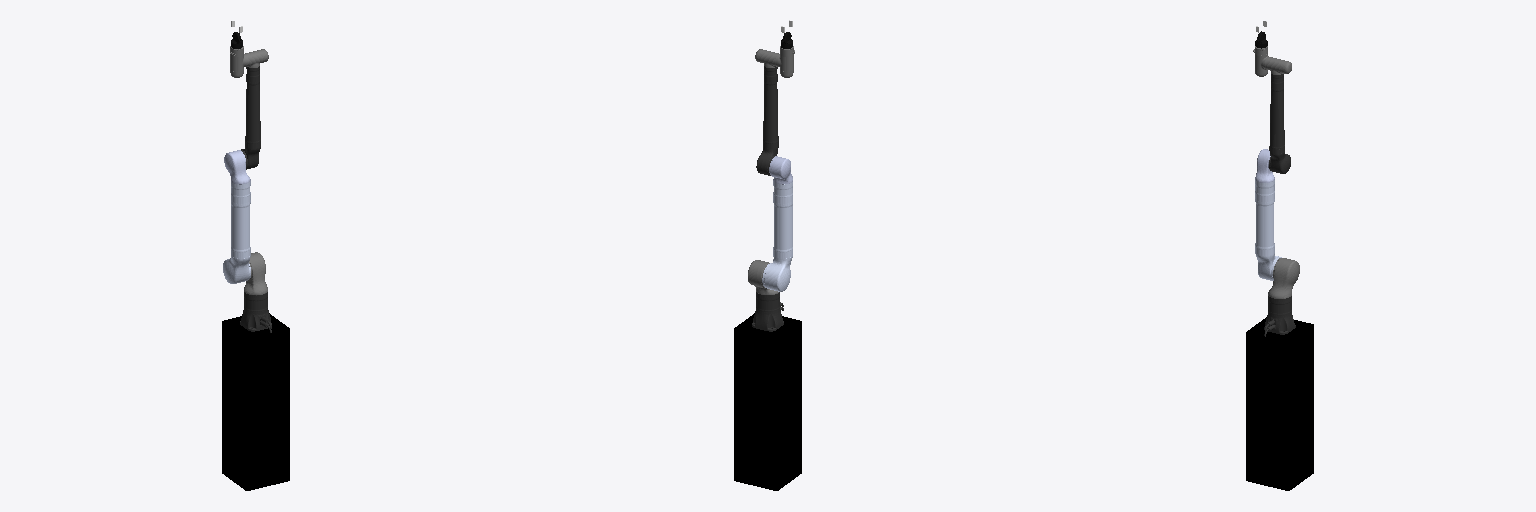
--- What the picture shows (computed from the rendered views, not written in the file) ---
The picture shows the robot from 3 angles, left to right: view 1: azimuth 30°, elevation 25°; view 2: azimuth 150°, elevation 25°; view 3: azimuth 330°, elevation 25°; orthographic projection.
Model kr1410_robot with 23 links and 22 joints (13 revolute, 9 fixed), rooted at world, posed all joints at 0.
Visible links, largest first — view 1: pedestal_link, link_2, link_4, base_link_1, link_1, link_3; view 2: pedestal_link, link_2, link_4, base_link_1, link_3; view 3: pedestal_link, link_2, link_4, base_link_1, link_1.
Boxes of the visible links, <box> form: pedestal_link: <box>222,313,289,490</box>; link_2: <box>223,181,250,283</box>; link_4: <box>241,66,260,169</box>; base_link_1: <box>240,292,271,332</box>; link_1: <box>244,252,267,295</box>; link_3: <box>224,150,250,184</box>; pedestal_link: <box>734,313,801,490</box>; link_2: <box>762,181,792,291</box>; link_4: <box>756,66,778,175</box>; base_link_1: <box>752,292,783,331</box>; link_3: <box>769,156,792,184</box>; pedestal_link: <box>1246,317,1313,490</box>; link_2: <box>1255,180,1281,280</box>; link_4: <box>1269,74,1290,173</box>; base_link_1: <box>1264,296,1295,336</box>; link_1: <box>1268,258,1299,298</box>.
Size in the robot's own frame: 0.3297 by 0.3349 by 3.01 metres.
9 mesh visuals loaded from 13 distinct referenced files (9 Collada DAE); not drawn: 8 (reference not matched to a file when rendering).

robot.urdf — kr1410_robot:
<?xml version="1.0" ?>
<!-- =================================================================================== -->
<!-- |    This document was autogenerated by xacro from kr1410_gripper.xacro           | -->
<!-- |    EDITING THIS FILE BY HAND IS NOT RECOMMENDED                                 | -->
<!-- =================================================================================== -->
<robot name="kr1410_robot">
  <!-- Author: Shivam -->
  <link name="base_link_1">
    <inertial>
      <origin rpy="0 0 0" xyz="-7.4738E-07 -0.0025261 0.10578"/>
      <mass value="4.1962"/>
      <inertia ixx="0.0097664" ixy="-2.7713E-06" ixz="-6.4429E-08" iyy="0.0097383" iyz="2.8724E-06" izz="0.01208"/>
    </inertial>
    <visual>
      <origin rpy="0 0 0" xyz="0 0 0"/>
      <geometry>
        <mesh filename="package://pkg_kassowa_robot/meshes/visual/base_link_1.dae"/>
      </geometry>
      <material name="">
        <color rgba="0.25098 0.25098 0.25098 1"/>
      </material>
    </visual>
    <collision>
      <origin rpy="0 0 0" xyz="0 0 0"/>
      <geometry>
        <mesh filename="package://pkg_kassowa_robot/meshes/collision/base_link_1.STL"/>
      </geometry>
    </collision>
  </link>
  <link name="link_1">
    <inertial>
      <origin rpy="0 0 0" xyz="0.012459 0.043509 0.10073"/>
      <mass value="3.0192"/>
      <inertia ixx="0.015663" ixy="-0.00040133" ixz="-0.00064388" iyy="0.012554" iyz="-0.0035217" izz="0.0094056"/>
    </inertial>
    <visual>
      <origin rpy="0 0 0" xyz="0 0 0"/>
      <geometry>
        <mesh filename="package://pkg_kassowa_robot/meshes/visual/link_1.dae"/>
      </geometry>
      <material name="">
        <color rgba="0.50196 0.50196 0.50196 1"/>
      </material>
    </visual>
    <collision>
      <origin rpy="0 0 0" xyz="0 0 0"/>
      <geometry>
        <mesh filename="package://pkg_kassowa_robot/meshes/collision/link_1.STL"/>
      </geometry>
    </collision>
  </link>
  <joint name="joint_1" type="revolute">
    <origin rpy="0 0 0" xyz="0 0 0.2272"/>
    <parent link="base_link_1"/>
    <child link="link_1"/>
    <axis xyz="0 0 1"/>
    <limit effort="150.0" lower="-3.1416" upper="3.1416" velocity="3.927"/>
    <dynamics damping="0" friction="0"/>
  </joint>
  <link name="link_2">
    <inertial>
      <origin rpy="0 0 0" xyz="-0.044962 -0.2486 0.062961"/>
      <mass value="8.0381"/>
      <inertia ixx="0.045397" ixy="-0.0027682" ixz="9.7935E-05" iyy="0.016757" iyz="0.00018387" izz="0.048264"/>
    </inertial>
    <visual>
      <origin rpy="0 0 0" xyz="0 0 0"/>
      <geometry>
        <mesh filename="package://pkg_kassowa_robot/meshes/visual/link_2.dae"/>
      </geometry>
      <material name="">
        <color rgba="0.86667 0.90588 1 1"/>
      </material>
    </visual>
    <collision>
      <origin rpy="0 0 0" xyz="0 0 0"/>
      <geometry>
        <mesh filename="package://pkg_kassowa_robot/meshes/collision/link_2.STL"/>
      </geometry>
    </collision>
  </link>
  <joint name="joint_2" type="revolute">
    <origin rpy="-1.5708 0 1.5708" xyz="-0.0405 0.062 0.13"/>
    <parent link="link_1"/>
    <child link="link_2"/>
    <axis xyz="0 0 -1"/>
    <limit effort="150.0" lower="-1.2217" upper="3.1416" velocity="3.927"/>
    <dynamics damping="0" friction="0"/>
  </joint>
  <link name="link_3">
    <inertial>
      <origin rpy="0 0 0" xyz="-0.010057 0.034551 0.080854"/>
      <mass value="1.5966"/>
      <inertia ixx="0.0054385" ixy="0.00013345" ixz="0.00023101" iyy="0.0043549" iyz="-0.0012411" izz="0.0032789"/>
    </inertial>
    <visual>
      <origin rpy="0 0 0" xyz="0 0 0"/>
      <geometry>
        <mesh filename="package://pkg_kassowa_robot/meshes/visual/link_3.dae"/>
      </geometry>
      <material name="">
        <color rgba="0.79216 0.81961 0.93333 1"/>
      </material>
    </visual>
    <collision>
      <origin rpy="0 0 0" xyz="0 0 0"/>
      <geometry>
        <mesh filename="package://pkg_kassowa_robot/meshes/collision/link_3.STL"/>
      </geometry>
    </collision>
  </link>
  <joint name="joint_3" type="revolute">
    <origin rpy="1.5708 1.5708 0" xyz="-0.062 -0.6175 0.0647"/>
    <parent link="link_2"/>
    <child link="link_3"/>
    <axis xyz="0 0 1"/>
    <limit effort="150.0" lower="-3.1416" upper="3.1416" velocity="3.927"/>
    <dynamics damping="0" friction="0"/>
  </joint>
  <link name="link_4">
    <inertial>
      <origin rpy="0 0 0" xyz="-0.036947 -0.23777 -0.051725"/>
      <mass value="4.4818"/>
      <inertia ixx="0.036251" ixy="-0.00092868" ixz="-2.0678E-05" iyy="0.0053736" iyz="-4.2282E-05" izz="0.037294"/>
    </inertial>
    <visual>
      <origin rpy="0 0 0" xyz="0 0 0"/>
      <geometry>
        <mesh filename="package://pkg_kassowa_robot/meshes/visual/link_4.dae"/>
      </geometry>
      <material name="">
        <color rgba="0.25098 0.25098 0.25098 1"/>
      </material>
    </visual>
    <collision>
      <origin rpy="0 0 0" xyz="0 0 0"/>
      <geometry>
        <mesh filename="package://pkg_kassowa_robot/meshes/collision/link_4.STL"/>
      </geometry>
    </collision>
  </link>
  <joint name="joint_4" type="revolute">
    <origin rpy="-1.5708 0 1.5708" xyz="0.0325 0.05 0.105"/>
    <parent link="link_3"/>
    <child link="link_4"/>
    <axis xyz="0 0 1"/>
    <limit effort="150.0" lower="-1.2217" upper="3.1416" velocity="3.927"/>
    <dynamics damping="0" friction="0"/>
  </joint>
  <link name="link_5">
    <inertial>
      <origin rpy="0 0 0" xyz="0.015982 4.9455E-08 0.043633"/>
      <mass value="0.76365"/>
      <inertia ixx="0.00066763" ixy="-2.6599E-09" ixz="8.4155E-06" iyy="0.00080379" iyz="-9.3021E-10" izz="0.00075782"/>
    </inertial>
    <visual>
      <origin rpy="0 0 0" xyz="0 0 0"/>
      <geometry>
        <mesh filename="package://pkg_kassowa_robot/meshes/visual/link_5.dae"/>
      </geometry>
      <material name="">
        <color rgba="0.50196 0.50196 0.50196 1"/>
      </material>
    </visual>
    <collision>
      <origin rpy="0 0 0" xyz="0 0 0"/>
      <geometry>
        <mesh filename="package://pkg_kassowa_robot/meshes/collision/link_5.STL"/>
      </geometry>
    </collision>
  </link>
  <joint name="joint_5" type="revolute">
    <origin rpy="1.5708 1.5708 0" xyz="-0.05 -0.631 -0.0532"/>
    <parent link="link_4"/>
    <child link="link_5"/>
    <axis xyz="0 0 1"/>
    <limit effort="28.0" lower="-3.1416" upper="3.1416" velocity="3.927"/>
    <dynamics damping="0" friction="0"/>
  </joint>
  <link name="link_6">
    <inertial>
      <origin rpy="0 0 0" xyz="-4.9555E-08 -0.016138 -0.043627"/>
      <mass value="0.76211"/>
      <inertia ixx="0.00080256" ixy="-2.6599E-09" ixz="-9.3021E-10" iyy="0.00066523" iyz="8.4155E-06" izz="0.00075659"/>
    </inertial>
    <visual>
      <origin rpy="0 0 0" xyz="0 0 0"/>
      <geometry>
        <mesh filename="package://pkg_kassowa_robot/meshes/visual/link_6.dae"/>
      </geometry>
      <material name="">
        <color rgba="0.50196 0.50196 0.50196 1"/>
      </material>
    </visual>
    <collision>
      <origin rpy="0 0 0" xyz="0 0 0"/>
      <geometry>
        <mesh filename="package://pkg_kassowa_robot/meshes/collision/link_6.STL"/>
      </geometry>
    </collision>
  </link>
  <joint name="joint_6" type="revolute">
    <origin rpy="1.5708 0 1.5708" xyz="-0.0645 0 0.0465"/>
    <parent link="link_5"/>
    <child link="link_6"/>
    <axis xyz="0 0 -1"/>
    <limit effort="28.0" lower="-3.1416" upper="3.1416" velocity="3.927"/>
    <dynamics damping="0" friction="0"/>
  </joint>
  <link name="tool_io">
    <inertial>
      <origin rpy="0 0 0" xyz="-0.00026943 -0.00014925 0.028118"/>
      <mass value="0.22852"/>
      <inertia ixx="0.00010445" ixy="9.8149E-07" ixz="-9.1736E-08" iyy="0.00010267" iyz="-1.6431E-08" izz="0.00017436"/>
    </inertial>
    <visual>
      <origin rpy="0 0 0" xyz="0 0 0"/>
      <geometry>
        <mesh filename="package://pkg_kassowa_robot/meshes/visual/tool_io.dae"/>
      </geometry>
      <material name="">
        <color rgba="0.50196 0.50196 0.50196 1"/>
      </material>
    </visual>
    <collision>
      <origin rpy="0 0 0" xyz="0 0 0"/>
      <geometry>
        <mesh filename="package://pkg_kassowa_robot/meshes/collision/tool_io.STL"/>
      </geometry>
    </collision>
  </link>
  <joint name="joint_tool_io" type="revolute">
    <origin rpy="1.5708 -1.5708 3.14" xyz="0 0.053 -0.0465"/>
    <parent link="link_6"/>
    <child link="tool_io"/>
    <axis xyz="0 0 1"/>
    <limit effort="28.0" lower="-3.1416" upper="3.1416" velocity="3.927"/>
    <dynamics damping="0" friction="0"/>
  </joint>
  <!-- Author: Shivam -->
  <transmission name="joint_1_trans">
    <type>transmission_interface/SimpleTransmission</type>
    <joint name="joint_1">
      <hardwareInterface>hardware_interface/PositionJointInterface</hardwareInterface>
    </joint>
    <actuator name="joint_1_motor">
      <mechanicalReduction>1.0</mechanicalReduction>
    </actuator>
  </transmission>
  <transmission name="joint_2_trans">
    <type>transmission_interface/SimpleTransmission</type>
    <joint name="joint_2">
      <hardwareInterface>hardware_interface/PositionJointInterface</hardwareInterface>
    </joint>
    <actuator name="joint_2_motor">
      <mechanicalReduction>1.0</mechanicalReduction>
    </actuator>
  </transmission>
  <transmission name="joint_3_trans">
    <type>transmission_interface/SimpleTransmission</type>
    <joint name="joint_3">
      <hardwareInterface>hardware_interface/PositionJointInterface</hardwareInterface>
    </joint>
    <actuator name="joint_3_motor">
      <mechanicalReduction>1.0</mechanicalReduction>
    </actuator>
  </transmission>
  <transmission name="joint_4_trans">
    <type>transmission_interface/SimpleTransmission</type>
    <joint name="joint_4">
      <hardwareInterface>hardware_interface/PositionJointInterface</hardwareInterface>
    </joint>
    <actuator name="joint_4_motor">
      <mechanicalReduction>1.0</mechanicalReduction>
    </actuator>
  </transmission>
  <transmission name="joint_5_trans">
    <type>transmission_interface/SimpleTransmission</type>
    <joint name="joint_5">
      <hardwareInterface>hardware_interface/PositionJointInterface</hardwareInterface>
    </joint>
    <actuator name="joint_5_motor">
      <mechanicalReduction>1.0</mechanicalReduction>
    </actuator>
  </transmission>
  <transmission name="joint_6_trans">
    <type>transmission_interface/SimpleTransmission</type>
    <joint name="joint_6">
      <hardwareInterface>hardware_interface/PositionJointInterface</hardwareInterface>
    </joint>
    <actuator name="joint_6_motor">
      <mechanicalReduction>1.0</mechanicalReduction>
    </actuator>
  </transmission>
  <transmission name="joint_tool_io_trans">
    <type>transmission_interface/SimpleTransmission</type>
    <joint name="joint_tool_io">
      <hardwareInterface>hardware_interface/PositionJointInterface</hardwareInterface>
    </joint>
    <actuator name="joint_tool_io_motor">
      <mechanicalReduction>1.0</mechanicalReduction>
    </actuator>
  </transmission>
  <link name="robotiq_arg2f_base_link">
    <inertial>
      <origin rpy="0 0 0" xyz="8.625E-08 -4.6583E-06 0.03145"/>
      <mass value="0.22652"/>
      <inertia ixx="0.00020005" ixy="-4.2442E-10" ixz="-2.9069E-10" iyy="0.00017832" iyz="-3.4402E-08" izz="0.00013478"/>
    </inertial>
    <visual>
      <origin rpy="0 0 0" xyz="0 0 0"/>
      <geometry>
        <mesh filename="package://robotiq_2f_85_gripper_visualization/meshes/visual/robotiq_arg2f_85_base_link.dae" scale="0.001 0.001 0.001"/>
      </geometry>
      <material name="">
        <color rgba="0.1 0.1 0.1 1"/>
      </material>
    </visual>
    <collision>
      <origin rpy="0 0 0" xyz="0 0 0"/>
      <geometry>
        <mesh filename="package://robotiq_2f_85_gripper_visualization/meshes/collision/robotiq_arg2f_base_link.stl"/>
      </geometry>
    </collision>
  </link>
  <link name="left_outer_knuckle">
    <inertial>
      <origin rpy="0 0 0" xyz="-0.000200000000003065 0.0199435877845359 0.0292245259211331"/>
      <mass value="0.00853198276973456"/>
      <inertia ixx="2.89328108496468E-06" ixy="-1.57935047237397E-19" ixz="-1.93980378593255E-19" iyy="1.86719750325683E-06" iyz="-1.21858577871576E-06" izz="1.21905238907251E-06"/>
    </inertial>
    <visual>
      <origin rpy="0 0 0" xyz="0 0 0"/>
      <geometry>
        <mesh filename="package://robotiq_2f_85_gripper_visualization/meshes/visual/robotiq_arg2f_85_outer_knuckle.dae" scale="0.001 0.001 0.001"/>
      </geometry>
      <material name="">
        <color rgba="0.792156862745098 0.819607843137255 0.933333333333333 1"/>
      </material>
    </visual>
    <collision>
      <origin rpy="0 0 0" xyz="0 0 0"/>
      <geometry>
        <mesh filename="package://robotiq_2f_85_gripper_visualization/meshes/collision/robotiq_arg2f_85_outer_knuckle.dae" scale="0.001 0.001 0.001"/>
      </geometry>
    </collision>
  </link>
  <link name="left_outer_finger">
    <inertial>
      <origin rpy="0 0 0" xyz="0.00030115855001899 0.0373907951953854 -0.0208027427000385"/>
      <mass value="0.022614240507152"/>
      <inertia ixx="1.52518312458174E-05" ixy="9.76583423954399E-10" ixz="-5.43838577022588E-10" iyy="6.17694243867776E-06" iyz="6.78636130740228E-06" izz="1.16494917907219E-05"/>
    </inertial>
    <visual>
      <origin rpy="0 0 0" xyz="0 0 0"/>
      <geometry>
        <mesh filename="package://robotiq_2f_85_gripper_visualization/meshes/visual/robotiq_arg2f_85_outer_finger.dae" scale="0.001 0.001 0.001"/>
      </geometry>
      <material name="">
        <color rgba="0.1 0.1 0.1 1"/>
      </material>
    </visual>
    <collision>
      <origin rpy="0 0 0" xyz="0 0 0"/>
      <geometry>
        <mesh filename="package://robotiq_2f_85_gripper_visualization/meshes/collision/robotiq_arg2f_85_outer_finger.dae" scale="0.001 0.001 0.001"/>
      </geometry>
    </collision>
  </link>
  <link name="left_inner_finger">
    <inertial>
      <origin rpy="0 0 0" xyz="0.000299999999999317 0.0160078233491243 -0.0136945669206257"/>
      <mass value="0.0104003125914103"/>
      <inertia ixx="2.71909453810972E-06" ixy="1.35402465472579E-21" ixz="-7.1817349065269E-22" iyy="7.69100314106116E-07" iyz="6.74715432769696E-07" izz="2.30315190420171E-06"/>
    </inertial>
    <visual>
      <origin rpy="0 0 0" xyz="0 0 0"/>
      <geometry>
        <mesh filename="package://robotiq_2f_85_gripper_visualization/meshes/visual/robotiq_arg2f_85_inner_finger.dae" scale="0.001 0.001 0.001"/>
      </geometry>
      <material name="">
        <color rgba="0.1 0.1 0.1 1"/>
      </material>
    </visual>
    <collision>
      <origin rpy="0 0 0" xyz="0 0 0"/>
      <geometry>
        <mesh filename="package://robotiq_2f_85_gripper_visualization/meshes/collision/robotiq_arg2f_85_inner_finger.dae" scale="0.001 0.001 0.001"/>
      </geometry>
    </collision>
  </link>
  <link name="left_inner_finger_pad">
    <inertial>
      <origin rpy="0 0 0" xyz="0.0000299999999999317 0.00160078233491243 -0.00136945669206257"/>
      <mass value="0.00104003125914103"/>
      <inertia ixx="2.71909453810972E-07" ixy="1.35402465472579E-22" ixz="-7.1817349065269E-23" iyy="7.69100314106116E-08" iyz="6.74715432769696E-08" izz="2.30315190420171E-07"/>
    </inertial>
    <visual>
      <origin rpy="0 0 0" xyz="0 0 0"/>
      <geometry>
        <box size="0.022 0.00635 0.0375"/>
      </geometry>
      <material name="">
        <color rgba="0.9 0.9 0.9 1"/>
      </material>
    </visual>
    <collision>
      <origin rpy="0 0 0" xyz="0 0 0"/>
      <geometry>
        <box size="0.022 0.00635 0.0375"/>
      </geometry>
      <material name="">
        <color rgba="0.9 0.0 0.0 1"/>
      </material>
    </collision>
  </link>
  <link name="left_inner_knuckle">
    <inertial>
      <origin rpy="0 0 0" xyz="0.000123011831763771 0.0507850843201817 0.00103968640075166"/>
      <mass value="0.0271177346495152"/>
      <inertia ixx="2.61910379223783E-05" ixy="-2.43616858946494E-07" ixz="-6.37789906117123E-09" iyy="2.8270243746167E-06" iyz="-5.37200748039765E-07" izz="2.83695868220296E-05"/>
    </inertial>
    <visual>
      <origin rpy="0 0 0" xyz="0 0 0"/>
      <geometry>
        <mesh filename="package://robotiq_2f_85_gripper_visualization/meshes/visual/robotiq_arg2f_85_inner_knuckle.dae" scale="0.001 0.001 0.001"/>
      </geometry>
      <material name="">
        <color rgba="0.1 0.1 0.1 1"/>
      </material>
    </visual>
    <collision>
      <origin rpy="0 0 0" xyz="0 0 0"/>
      <geometry>
        <mesh filename="package://robotiq_2f_85_gripper_visualization/meshes/collision/robotiq_arg2f_85_inner_knuckle.dae" scale="0.001 0.001 0.001"/>
      </geometry>
    </collision>
  </link>
  <link name="right_outer_knuckle">
    <inertial>
      <origin rpy="0 0 0" xyz="-0.000200000000003065 0.0199435877845359 0.0292245259211331"/>
      <mass value="0.00853198276973456"/>
      <inertia ixx="2.89328108496468E-06" ixy="-1.57935047237397E-19" ixz="-1.93980378593255E-19" iyy="1.86719750325683E-06" iyz="-1.21858577871576E-06" izz="1.21905238907251E-06"/>
    </inertial>
    <visual>
      <origin rpy="0 0 0" xyz="0 0 0"/>
      <geometry>
        <mesh filename="package://robotiq_2f_85_gripper_visualization/meshes/visual/robotiq_arg2f_85_outer_knuckle.dae" scale="0.001 0.001 0.001"/>
      </geometry>
      <material name="">
        <color rgba="0.792156862745098 0.819607843137255 0.933333333333333 1"/>
      </material>
    </visual>
    <collision>
      <origin rpy="0 0 0" xyz="0 0 0"/>
      <geometry>
        <mesh filename="package://robotiq_2f_85_gripper_visualization/meshes/collision/robotiq_arg2f_85_outer_knuckle.dae" scale="0.001 0.001 0.001"/>
      </geometry>
    </collision>
  </link>
  <link name="right_outer_finger">
    <inertial>
      <origin rpy="0 0 0" xyz="0.00030115855001899 0.0373907951953854 -0.0208027427000385"/>
      <mass value="0.022614240507152"/>
      <inertia ixx="1.52518312458174E-05" ixy="9.76583423954399E-10" ixz="-5.43838577022588E-10" iyy="6.17694243867776E-06" iyz="6.78636130740228E-06" izz="1.16494917907219E-05"/>
    </inertial>
    <visual>
      <origin rpy="0 0 0" xyz="0 0 0"/>
      <geometry>
        <mesh filename="package://robotiq_2f_85_gripper_visualization/meshes/visual/robotiq_arg2f_85_outer_finger.dae" scale="0.001 0.001 0.001"/>
      </geometry>
      <material name="">
        <color rgba="0.1 0.1 0.1 1"/>
      </material>
    </visual>
    <collision>
      <origin rpy="0 0 0" xyz="0 0 0"/>
      <geometry>
        <mesh filename="package://robotiq_2f_85_gripper_visualization/meshes/collision/robotiq_arg2f_85_outer_finger.dae" scale="0.001 0.001 0.001"/>
      </geometry>
    </collision>
  </link>
  <link name="right_inner_finger">
    <inertial>
      <origin rpy="0 0 0" xyz="0.000299999999999317 0.0160078233491243 -0.0136945669206257"/>
      <mass value="0.0104003125914103"/>
      <inertia ixx="2.71909453810972E-06" ixy="1.35402465472579E-21" ixz="-7.1817349065269E-22" iyy="7.69100314106116E-07" iyz="6.74715432769696E-07" izz="2.30315190420171E-06"/>
    </inertial>
    <visual>
      <origin rpy="0 0 0" xyz="0 0 0"/>
      <geometry>
        <mesh filename="package://robotiq_2f_85_gripper_visualization/meshes/visual/robotiq_arg2f_85_inner_finger.dae" scale="0.001 0.001 0.001"/>
      </geometry>
      <material name="">
        <color rgba="0.1 0.1 0.1 1"/>
      </material>
    </visual>
    <collision>
      <origin rpy="0 0 0" xyz="0 0 0"/>
      <geometry>
        <mesh filename="package://robotiq_2f_85_gripper_visualization/meshes/collision/robotiq_arg2f_85_inner_finger.dae" scale="0.001 0.001 0.001"/>
      </geometry>
    </collision>
  </link>
  <link name="right_inner_finger_pad">
    <inertial>
      <origin rpy="0 0 0" xyz="0.0000299999999999317 0.00160078233491243 -0.00136945669206257"/>
      <mass value="0.00104003125914103"/>
      <inertia ixx="2.71909453810972E-07" ixy="1.35402465472579E-22" ixz="-7.1817349065269E-23" iyy="7.69100314106116E-08" iyz="6.74715432769696E-08" izz="2.30315190420171E-07"/>
    </inertial>
    <visual>
      <origin rpy="0 0 0" xyz="0 0 0"/>
      <geometry>
        <box size="0.022 0.00635 0.0375"/>
      </geometry>
      <material name="">
        <color rgba="0.9 0.9 0.9 1"/>
      </material>
    </visual>
    <collision>
      <origin rpy="0 0 0" xyz="0 0 0"/>
      <geometry>
        <box size="0.022 0.00635 0.0375"/>
      </geometry>
      <material name="">
        <color rgba="0.9 0.0 0.0 1"/>
      </material>
    </collision>
  </link>
  <link name="right_inner_knuckle">
    <inertial>
      <origin rpy="0 0 0" xyz="0.000123011831763771 0.0507850843201817 0.00103968640075166"/>
      <mass value="0.0271177346495152"/>
      <inertia ixx="2.61910379223783E-05" ixy="-2.43616858946494E-07" ixz="-6.37789906117123E-09" iyy="2.8270243746167E-06" iyz="-5.37200748039765E-07" izz="2.83695868220296E-05"/>
    </inertial>
    <visual>
      <origin rpy="0 0 0" xyz="0 0 0"/>
      <geometry>
        <mesh filename="package://robotiq_2f_85_gripper_visualization/meshes/visual/robotiq_arg2f_85_inner_knuckle.dae" scale="0.001 0.001 0.001"/>
      </geometry>
      <material name="">
        <color rgba="0.1 0.1 0.1 1"/>
      </material>
    </visual>
    <collision>
      <origin rpy="0 0 0" xyz="0 0 0"/>
      <geometry>
        <mesh filename="package://robotiq_2f_85_gripper_visualization/meshes/collision/robotiq_arg2f_85_inner_knuckle.dae" scale="0.001 0.001 0.001"/>
      </geometry>
    </collision>
  </link>
  <joint name="finger_joint" type="revolute">
    <origin rpy="0 0 3.141592653589793" xyz="0 -0.0306011 0.054904"/>
    <parent link="robotiq_arg2f_base_link"/>
    <child link="left_outer_knuckle"/>
    <axis xyz="1 0 0"/>
    <limit effort="1000" lower="0" upper="0.8" velocity="2.0"/>
  </joint>
  <joint name="left_outer_finger_joint" type="fixed">
    <origin rpy="0 0 0" xyz="0 0.0315 -0.0041"/>
    <parent link="left_outer_knuckle"/>
    <child link="left_outer_finger"/>
    <axis xyz="1 0 0"/>
  </joint>
  <joint name="left_inner_knuckle_joint" type="revolute">
    <!-- <origin xyz="0 ${reflect * -0.0127} 0.06142" rpy="${pi / 2 + .725} 0 ${(reflect - 1) * pi / 2}" /> -->
    <origin rpy="0 0 3.141592653589793" xyz="0 -0.0127 0.06142"/>
    <parent link="robotiq_arg2f_base_link"/>
    <child link="left_inner_knuckle"/>
    <axis xyz="1 0 0"/>
    <limit effort="1000" lower="0" upper="0.8757" velocity="2.0"/>
    <mimic joint="finger_joint" multiplier="1" offset="0"/>
  </joint>
  <joint name="left_inner_finger_joint" type="revolute">
    <origin rpy="0 0 0" xyz="0 0.0061 0.0471"/>
    <parent link="left_outer_finger"/>
    <child link="left_inner_finger"/>
    <axis xyz="1 0 0"/>
    <limit effort="1000" lower="0" upper="0.8757" velocity="2.0"/>
    <mimic joint="finger_joint" multiplier="-1" offset="0"/>
  </joint>
  <joint name="left_inner_finger_pad_joint" type="fixed">
    <origin rpy="0 0 0" xyz="0 -0.0220203446692936 0.03242"/>
    <parent link="left_inner_finger"/>
    <child link="left_inner_finger_pad"/>
    <axis xyz="0 0 1"/>
  </joint>
  <joint name="right_outer_knuckle_joint" type="revolute">
    <origin rpy="0 0 0" xyz="0 0.0306011 0.054904"/>
    <parent link="robotiq_arg2f_base_link"/>
    <child link="right_outer_knuckle"/>
    <axis xyz="1 0 0"/>
    <limit effort="1000" lower="0" upper="0.81" velocity="2.0"/>
    <mimic joint="finger_joint" multiplier="1" offset="0"/>
  </joint>
  <joint name="right_outer_finger_joint" type="fixed">
    <origin rpy="0 0 0" xyz="0 0.0315 -0.0041"/>
    <parent link="right_outer_knuckle"/>
    <child link="right_outer_finger"/>
    <axis xyz="1 0 0"/>
  </joint>
  <joint name="right_inner_knuckle_joint" type="revolute">
    <!-- <origin xyz="0 ${reflect * -0.0127} 0.06142" rpy="${pi / 2 + .725} 0 ${(reflect - 1) * pi / 2}" /> -->
    <origin rpy="0 0 0.0" xyz="0 0.0127 0.06142"/>
    <parent link="robotiq_arg2f_base_link"/>
    <child link="right_inner_knuckle"/>
    <axis xyz="1 0 0"/>
    <limit effort="1000" lower="0" upper="0.8757" velocity="2.0"/>
    <mimic joint="finger_joint" multiplier="1" offset="0"/>
  </joint>
  <joint name="right_inner_finger_joint" type="revolute">
    <origin rpy="0 0 0" xyz="0 0.0061 0.0471"/>
    <parent link="right_outer_finger"/>
    <child link="right_inner_finger"/>
    <axis xyz="1 0 0"/>
    <limit effort="1000" lower="0" upper="0.8757" velocity="2.0"/>
    <mimic joint="finger_joint" multiplier="-1" offset="0"/>
  </joint>
  <joint name="right_inner_finger_pad_joint" type="fixed">
    <origin rpy="0 0 0" xyz="0 -0.0220203446692936 0.03242"/>
    <parent link="right_inner_finger"/>
    <child link="right_inner_finger_pad"/>
    <axis xyz="0 0 1"/>
  </joint>
  <transmission name="finger_joint_trans">
    <type>transmission_interface/SimpleTransmission</type>
    <joint name="finger_joint">
      <hardwareInterface>hardware_interface/PositionJointInterface</hardwareInterface>
    </joint>
    <actuator name="finger_joint_motor">
      <mechanicalReduction>1</mechanicalReduction>
    </actuator>
  </transmission>
  <gazebo reference="pedestal_link">
    <material>Gazebo/DarkGray</material>
  </gazebo>
  <gazebo reference="robotiq_arg2f_base_link">
    <material>Gazebo/Black</material>
  </gazebo>
  <!-- Configure self collision properties per link -->
  <gazebo reference="base_link_1">
    <selfCollide>true</selfCollide>
  </gazebo>
  <!-- Configure self collision properties per link -->
  <gazebo reference="link_1">
    <selfCollide>true</selfCollide>
  </gazebo>
  <!-- Configure self collision properties per link -->
  <gazebo reference="link_2">
    <selfCollide>true</selfCollide>
  </gazebo>
  <!-- Configure self collision properties per link -->
  <gazebo reference="link_3">
    <selfCollide>true</selfCollide>
  </gazebo>
  <!-- Configure self collision properties per link -->
  <gazebo reference="link_4">
    <selfCollide>true</selfCollide>
  </gazebo>
  <!-- Configure self collision properties per link -->
  <gazebo reference="link_5">
    <selfCollide>true</selfCollide>
  </gazebo>
  <!-- Configure self collision properties per link -->
  <gazebo reference="link_6">
    <selfCollide>true</selfCollide>
  </gazebo>
  <!-- Configure self collision properties per link -->
  <gazebo reference="tool_io">
    <selfCollide>true</selfCollide>
  </gazebo>
  <!-- Define the kr1410 robot position and orientation in the world coordinate system -->
  <link name="world"/>
  <joint name="world_joint" type="fixed">
    <parent link="world"/>
    <child link="base_link"/>
    <origin rpy="0.0 0.0 0.0" xyz="0.0 0.0 1.0"/>
  </joint>
  <!-- <xacro:self_collision link="robotiq_arg2f_base_link"/>
    <xacro:self_collision link="left_outer_knuckle"/>
    <xacro:self_collision link="left_outer_finger"/>
    <xacro:self_collision link="left_inner_finger"/>
    <xacro:self_collision link="left_inner_finger_pad"/>
    <xacro:self_collision link="left_inner_knuckle"/>
    <xacro:self_collision link="right_outer_knuckle"/>
    <xacro:self_collision link="right_outer_finger"/>
    <xacro:self_collision link="right_inner_finger"/>
    <xacro:self_collision link="right_inner_finger_pad"/>
    <xacro:self_collision link="right_inner_knuckle"/> -->
  <!-- Gazebo Plugins -->
  <gazebo>
    <plugin filename="libgazebo_ros_control.so" name="ros_control">
      <!--robotNamespace>/</robotNamespace-->
      <!--robotSimType>gazebo_ros_control/DefaultRobotHWSim</robotSimType-->
    </plugin>
  </gazebo>
  <gazebo>
    <plugin filename="libroboticsgroup_upatras_gazebo_mimic_joint_plugin.so" name="right_outer_knuckle_joint_mimic_plugin">
      <joint>finger_joint</joint>
      <mimicJoint>right_outer_knuckle_joint</mimicJoint>
      <hasPID/>
      <multiplier>1.0</multiplier>
      <offset>0.0</offset>
      <sensitiveness>0.0</sensitiveness>
      <maxEffort>5.0</maxEffort>
    </plugin>
    <plugin filename="libroboticsgroup_upatras_gazebo_mimic_joint_plugin.so" name="left_inner_finger_joint_mimic_plugin">
      <joint>finger_joint</joint>
      <mimicJoint>left_inner_finger_joint</mimicJoint>
      <hasPID/>
      <multiplier>-1.0</multiplier>
      <offset>0.0</offset>
      <sensitiveness>0.0</sensitiveness>
      <maxEffort>5.0</maxEffort>
    </plugin>
    <plugin filename="libroboticsgroup_upatras_gazebo_mimic_joint_plugin.so" name="right_inner_finger_joint_mimic_plugin">
      <joint>finger_joint</joint>
      <mimicJoint>right_inner_finger_joint</mimicJoint>
      <hasPID/>
      <multiplier>-1.0</multiplier>
      <offset>0.0</offset>
      <sensitiveness>0.0</sensitiveness>
      <maxEffort>5.0</maxEffort>
    </plugin>
    <plugin filename="libroboticsgroup_upatras_gazebo_mimic_joint_plugin.so" name="left_inner_knuckle_joint_mimic_plugin">
      <joint>finger_joint</joint>
      <mimicJoint>left_inner_knuckle_joint</mimicJoint>
      <hasPID/>
      <multiplier>1.0</multiplier>
      <offset>0.0</offset>
      <sensitiveness>0.0</sensitiveness>
      <maxEffort>5.0</maxEffort>
    </plugin>
    <plugin filename="libroboticsgroup_upatras_gazebo_mimic_joint_plugin.so" name="right_inner_knuckle_joint_mimic_plugin">
      <joint>finger_joint</joint>
      <mimicJoint>right_inner_knuckle_joint</mimicJoint>
      <hasPID/>
      <multiplier>1.0</multiplier>
      <offset>0.0</offset>
      <sensitiveness>0.0</sensitiveness>
      <maxEffort>5.0</maxEffort>
    </plugin>
  </gazebo>
  <!-- <gazebo>
    <disable_collisions link1="right_outer_finger" link2="robotiq_arg2f_base_link" reason="Adjacent"/>
    <disable_collisions link1="right_outer_knuckle" link2="right_inner_knuckle" reason="Adjacent"/>
    <disable_collisions link1="right_outer_knuckle" link2="right_outer_finger" reason="Adjacent"/>
    <disable_collisions link1="right_outer_finger" link2="right_inner_finger" reason="Adjacent"/>
    <disable_collisions link1="right_inner_knuckle" link2="right_inner_finger" reason="Adjacent"/>
    <disable_collisions link1="left_outer_knuckle" link2="robotiq_arg2f_base_link" reason="Adjacent"/>
    <disable_collisions link1="left_inner_knuckle" link2="robotiq_arg2f_base_link" reason="Adjacent"/>
    <disable_collisions link1="left_outer_knuckle" link2="robotiq_arg2f_base_link" reason="Adjacent"/>
    <disable_collisions link1="left_outer_finger" link2="robotiq_arg2f_base_link" reason="Adjacent"/>
    <disable_collisions link1="left_outer_knuckle" link2="left_inner_knuckle" reason="Adjacent"/>
    <disable_collisions link1="left_outer_knuckle" link2="left_outer_finger" reason="Adjacent"/>
    <disable_collisions link1="left_outer_finger" link2="left_inner_finger" reason="Adjacent"/>
    <disable_collisions link1="left_inner_knuckle" link2="left_inner_finger" reason="Adjacent"/>
  </gazebo> -->
  <!-- Create a dummy link base_link -->
  <link name="base_link"/>
  <joint name="base_link_joint" type="fixed">
    <parent link="base_link"/>
    <child link="base_link_1"/>
    <origin rpy="0 0 0" xyz="0 0 0"/>
  </joint>
  <link name="pedestal_link">
    <visual>
      <origin xyz="0 0 0.5"/>
      <geometry>
        <box size="0.3 0.3 1.0"/>
      </geometry>
      <material name="pedestal_color">
        <color rgba="0 0 0 1"/>
      </material>
    </visual>
    <collision>
      <origin xyz="0 0 0.5"/>
      <geometry>
        <box size="0.3 0.3 1.0"/>
      </geometry>
    </collision>
    <inertial>
      <mass value="500"/>
      <origin rpy="0 0 0" xyz="0 0 0"/>
      <inertia ixx="0.001" ixy="0" ixz="0" iyy="0.001" iyz="0" izz="0.001"/>
    </inertial>
  </link>
  <joint name="pedestal_joint" type="fixed">
    <!-- <origin rpy="0 0 0" xyz="0.5 1.8 0.0"/> -->
    <origin rpy="0 0 0" xyz="0.0 0.0 0.0"/>
    <parent link="world"/>
    <child link="pedestal_link"/>
  </joint>
  <!-- Create end effector link -->
  <link name="ee_link"/>
  <joint name="ee_joint" type="fixed">
    <parent link="tool_io"/>
    <child link="ee_link"/>
    <origin rpy="0 0 0" xyz="0 0 0.05"/>
  </joint>
  <!-- Attach Robotiq Gripper to Kassow Robot -->
  <joint name="gripper_joint" type="fixed">
    <parent link="ee_link"/>
    <child link="robotiq_arg2f_base_link"/>
    <origin rpy="0 0 0" xyz="0 0 0"/>
  </joint>
</robot>
